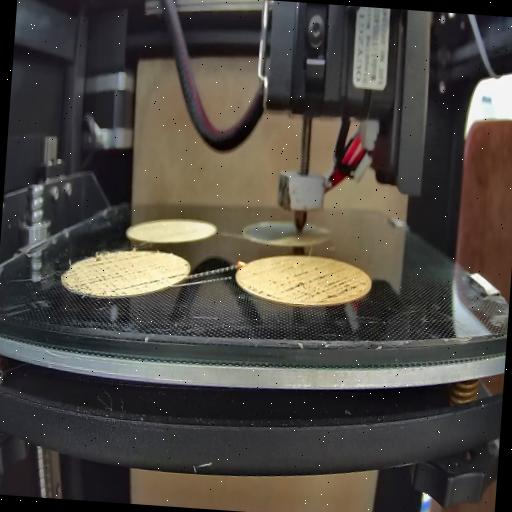under_extrusion: (248, 268, 368, 304), (74, 252, 144, 298), (143, 266, 188, 286)
